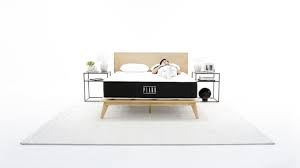bed-matress: (101, 69, 197, 99)
